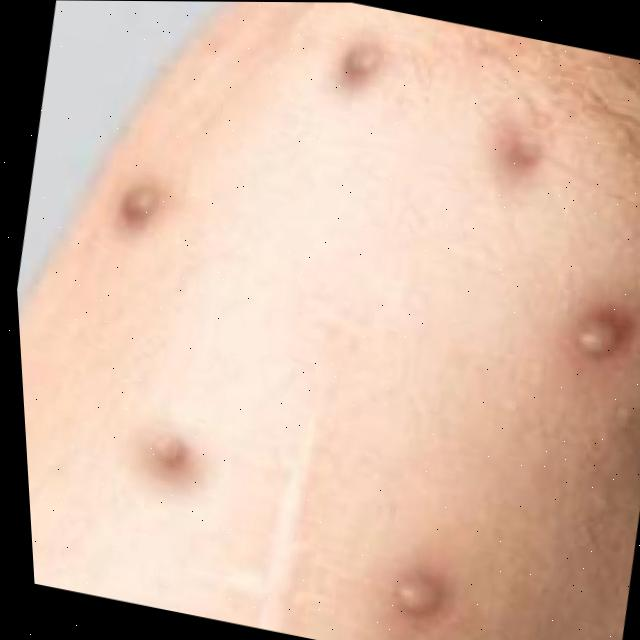Eczema: (381, 561, 470, 640), (330, 34, 408, 112), (105, 171, 191, 241), (492, 119, 562, 182), (558, 308, 628, 370), (135, 420, 195, 480)
